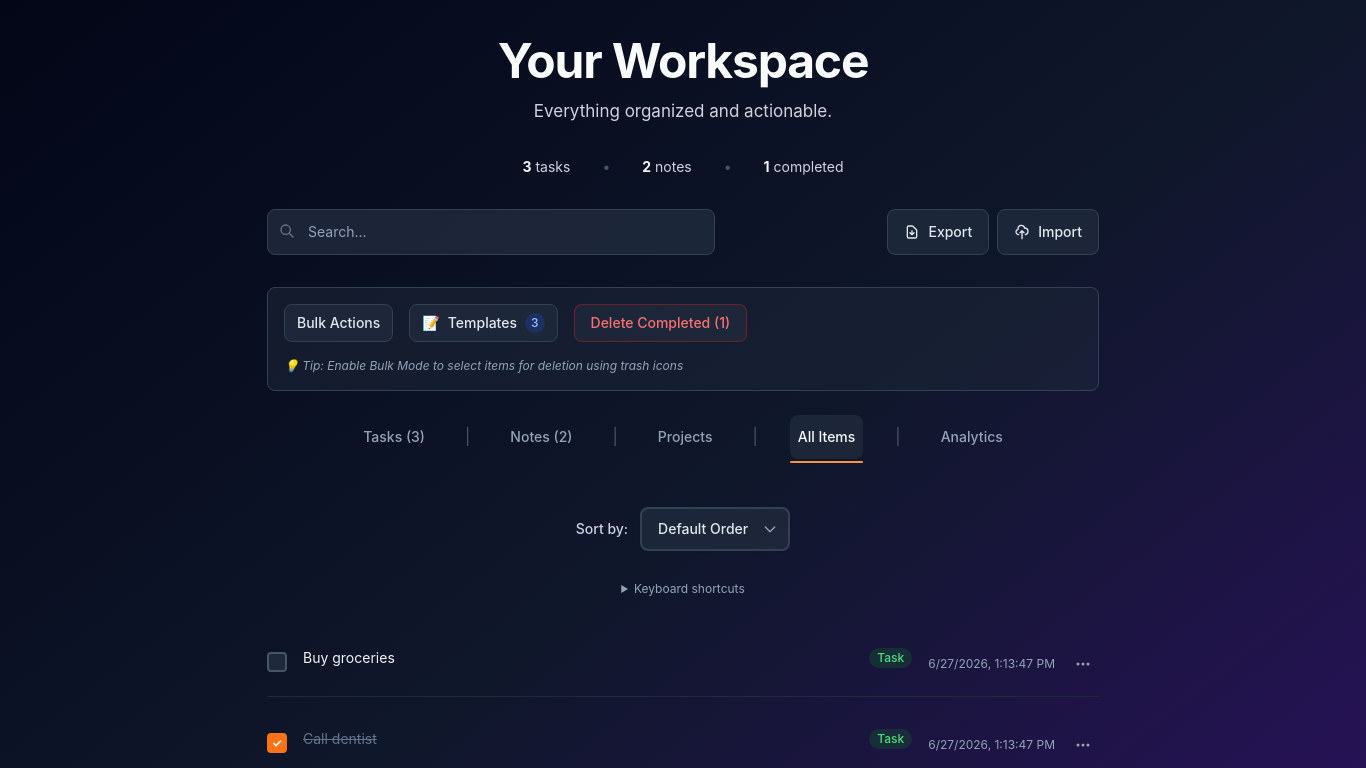
Test case: OrganizedView Bulk Operations › enables bulk mode when bulk actions button is clicked
Click the button "Bulk Actions".
click(339, 323)  # box [284, 304, 393, 342]
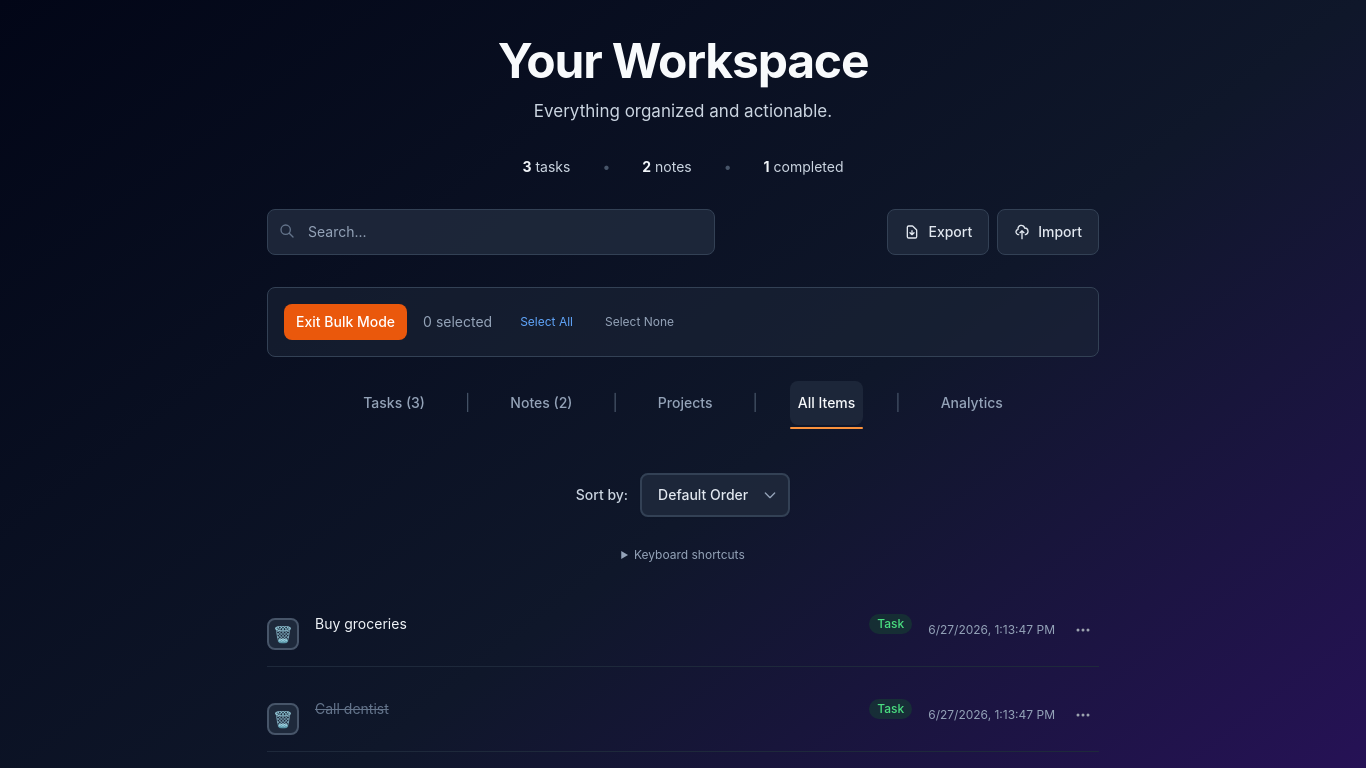
Check: the button "Exit Bulk Mode" is shown, box [284, 304, 407, 340]
Check: the button "Select All" is shown, box [508, 310, 585, 334]
Check: the button "Select None" is shown, box [593, 310, 686, 334]
